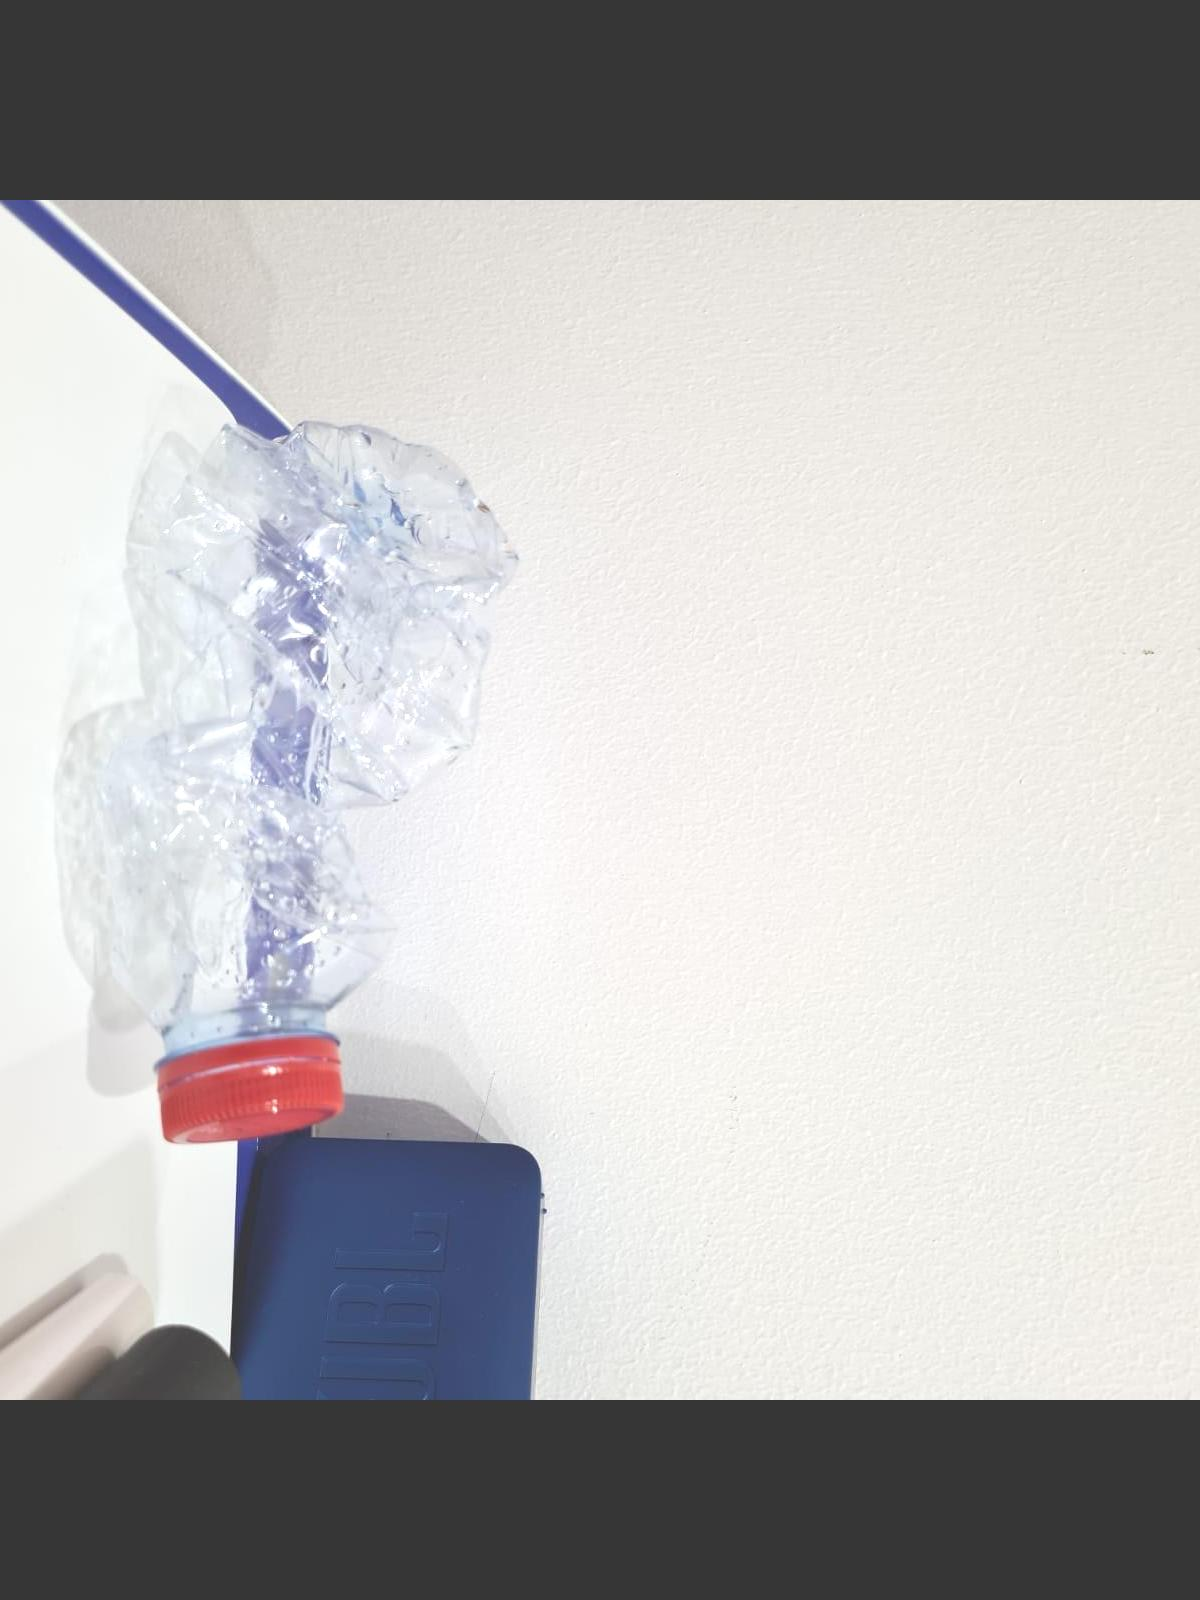bottle: (63, 441, 536, 1143)
